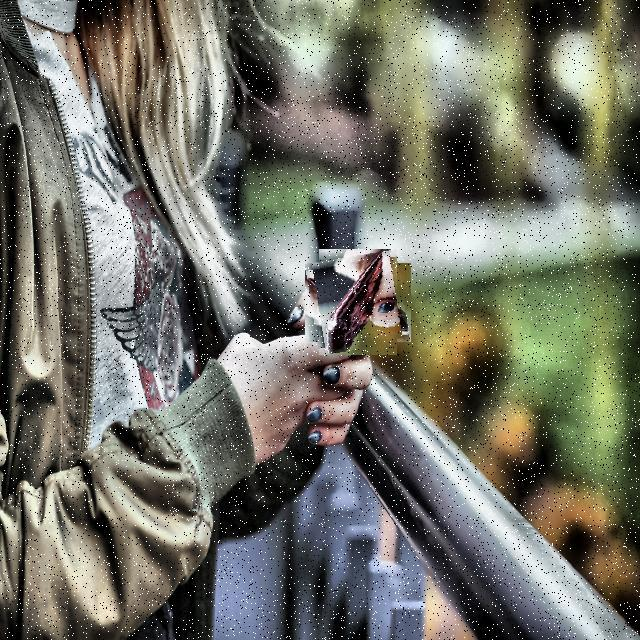Phone: (308, 253, 408, 352)
